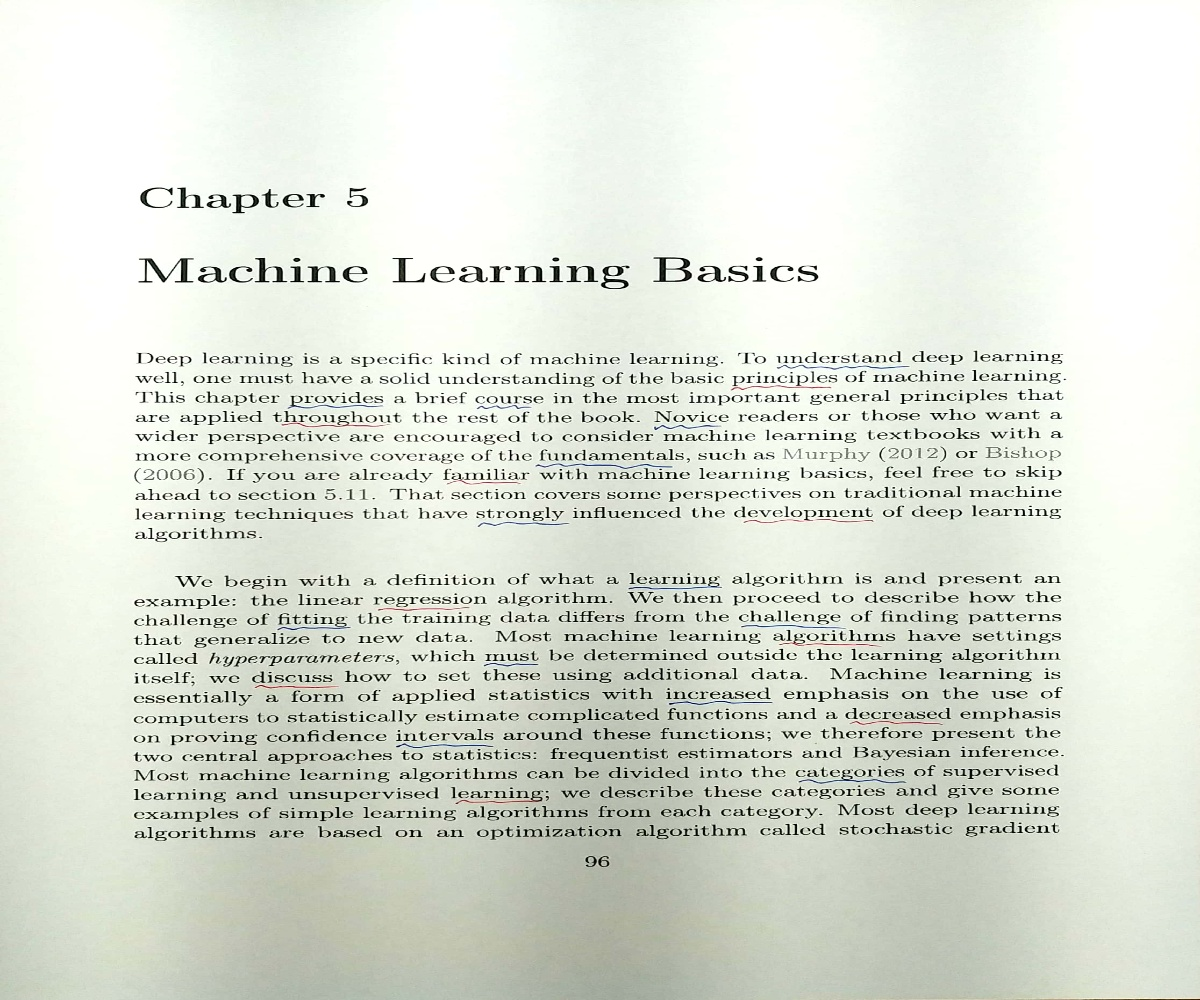underline: (535, 459, 676, 470), (775, 638, 886, 650), (477, 516, 570, 529), (277, 421, 389, 431), (795, 775, 905, 785), (776, 362, 913, 370), (742, 517, 878, 525), (277, 624, 356, 637), (252, 678, 337, 690), (730, 382, 838, 391), (666, 698, 774, 707), (394, 741, 495, 750), (740, 620, 847, 628), (628, 581, 721, 590), (847, 719, 943, 727), (376, 603, 472, 611), (443, 477, 519, 487), (452, 798, 546, 806), (286, 404, 387, 410), (476, 401, 536, 410), (655, 421, 722, 429), (483, 660, 538, 668)
